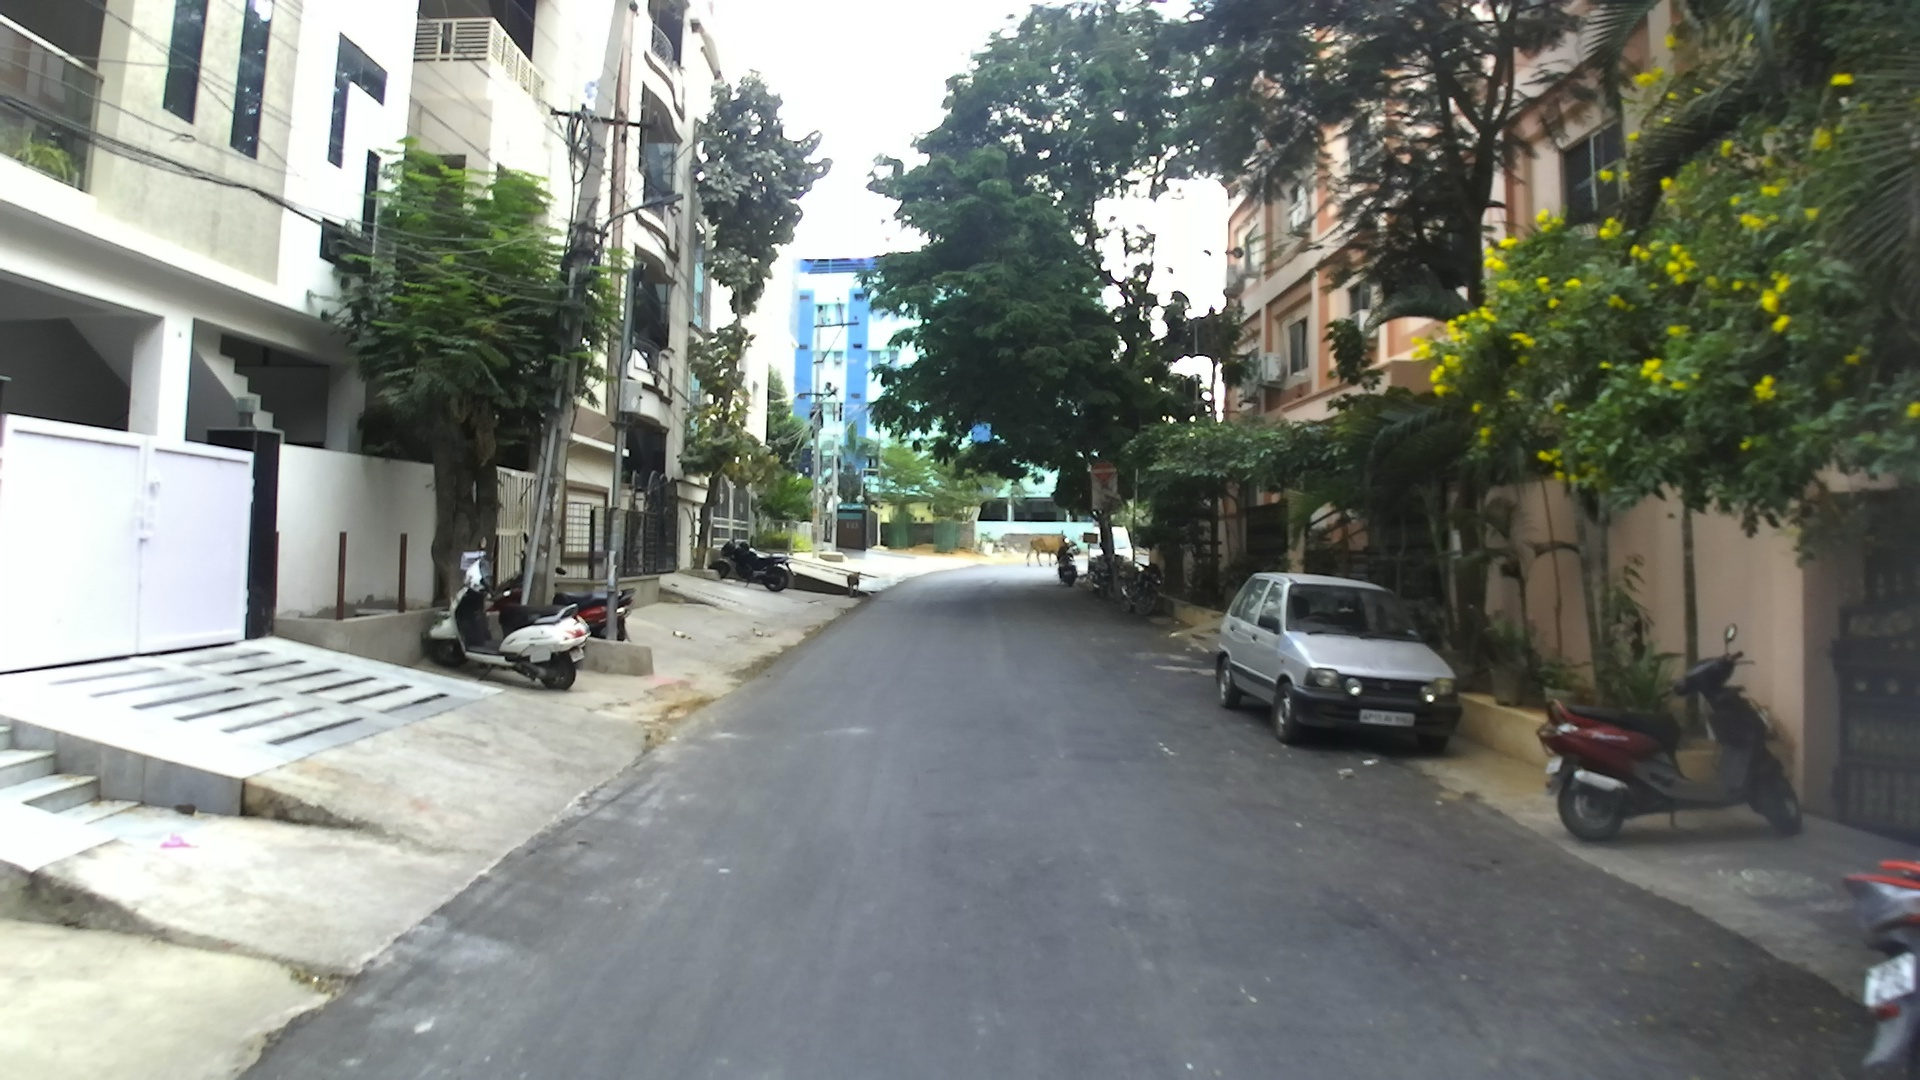vehicle: (1536, 642, 1803, 843), (1213, 568, 1460, 757), (1841, 851, 1919, 1076)
